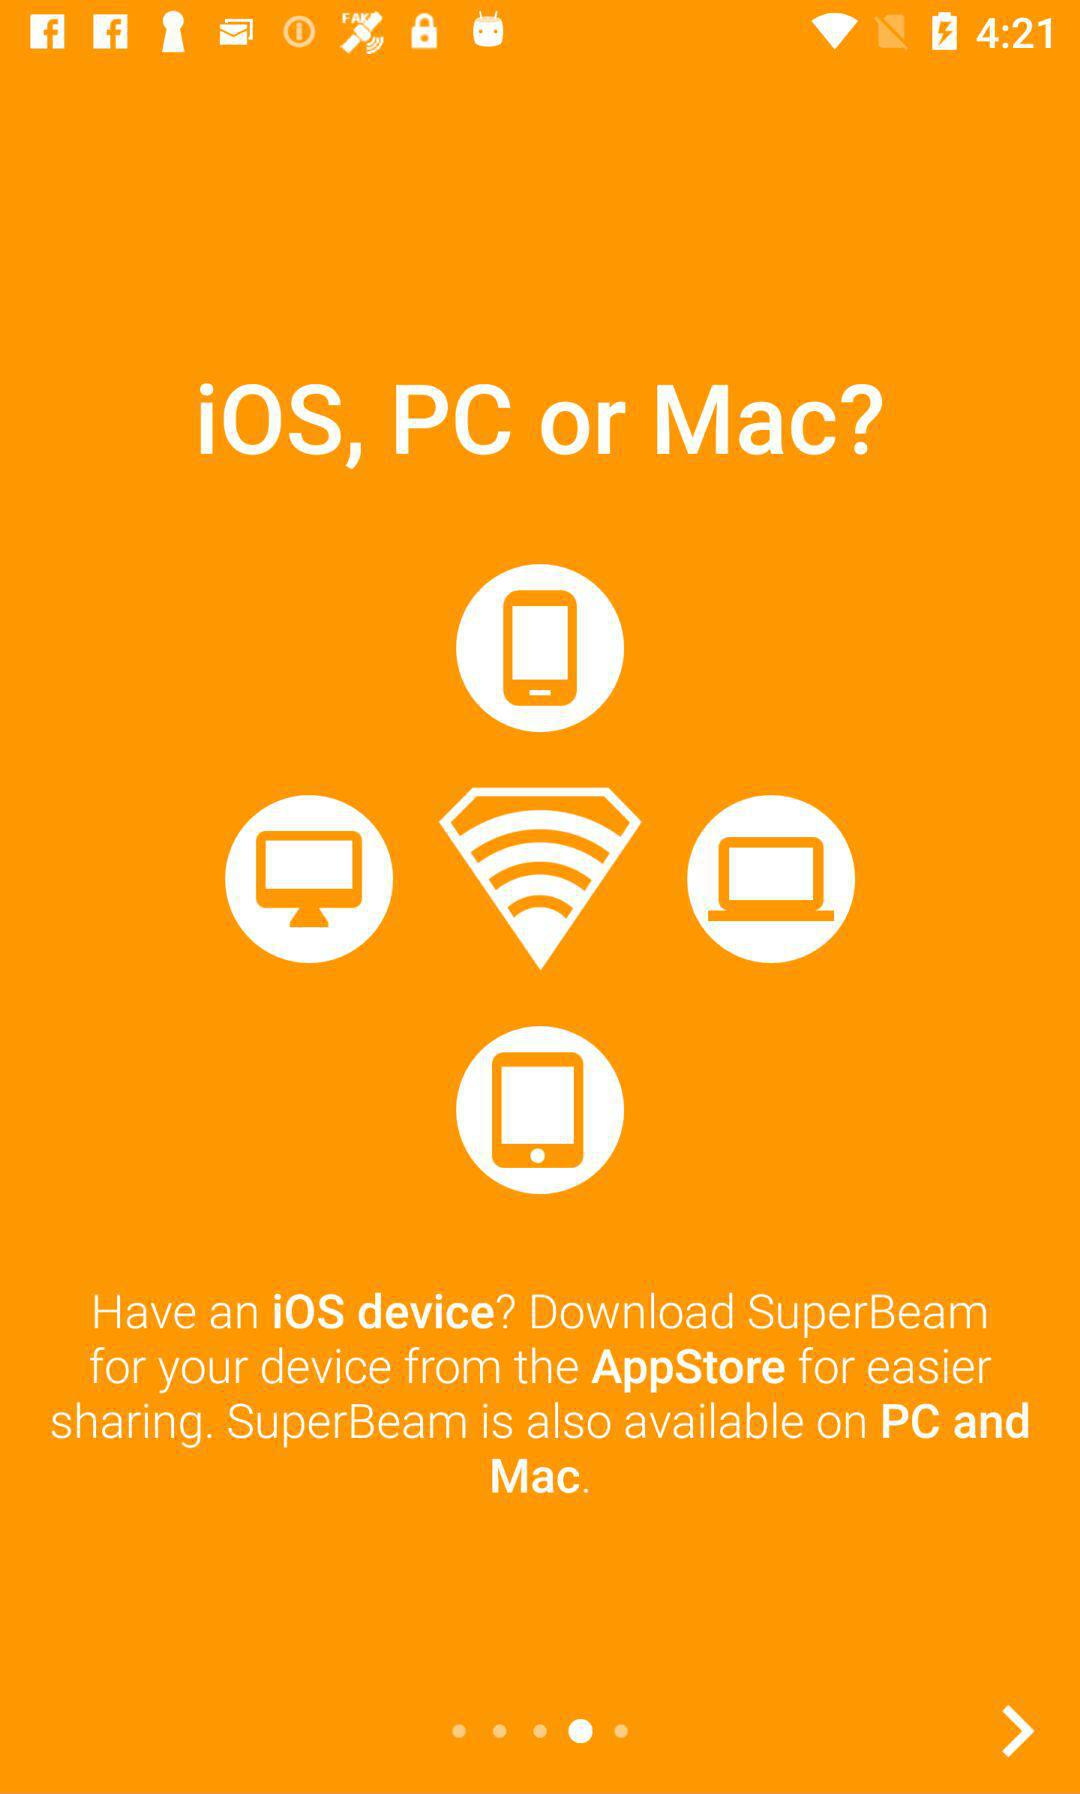Icon: (1001, 1703, 1036, 1759)
Image: (224, 563, 857, 1196)
PageIndicator: (450, 1716, 632, 1745)
Text: (50, 1290, 1030, 1497), (199, 383, 884, 472)
UpperTaskBar: (1, 1, 1080, 64)
